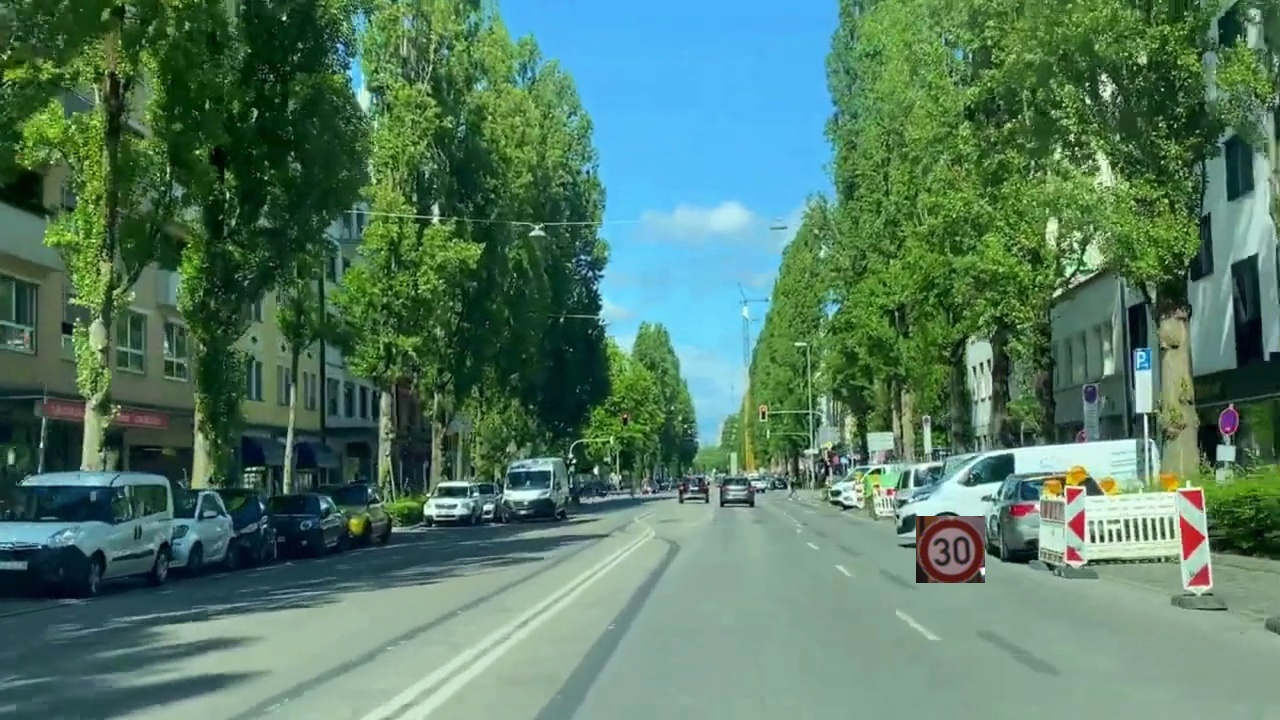Speed 30: (916, 516, 985, 583)
